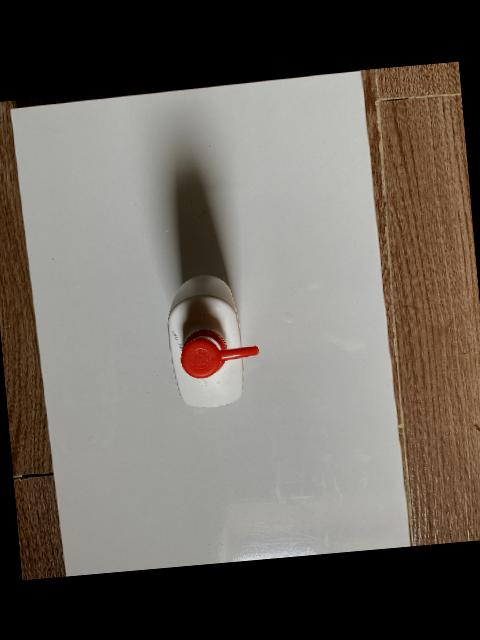life-buoy: (167, 273, 259, 406)
